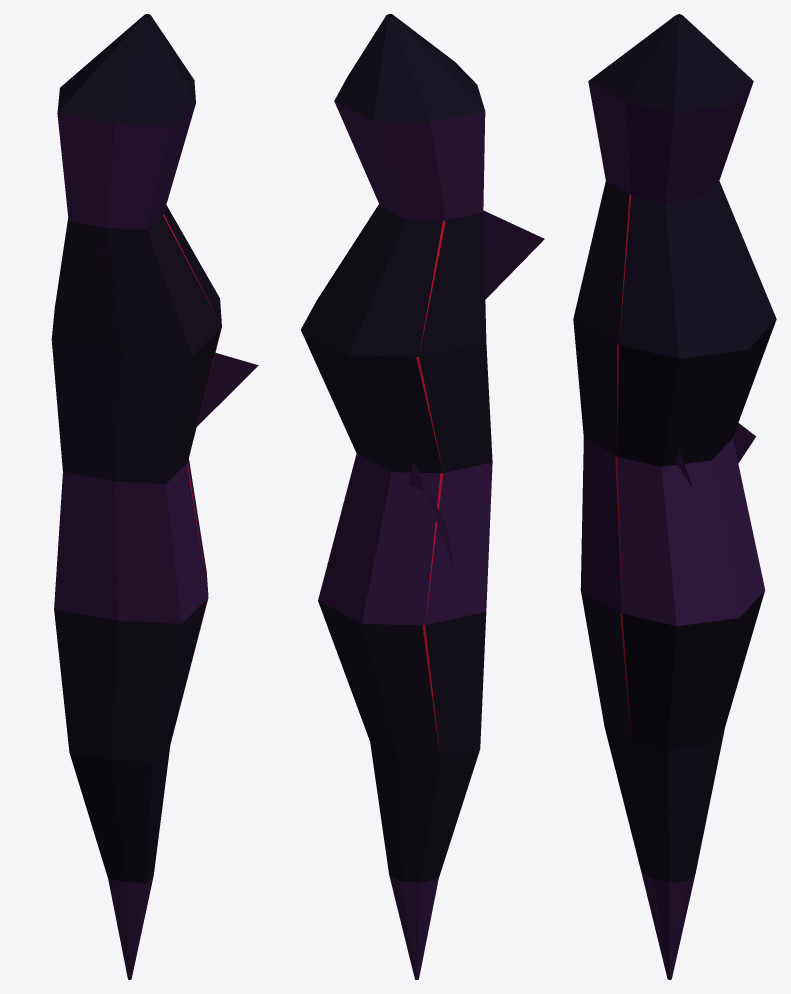
The model's file is false_king_shadow_spear.obj.
The picture shows the model from 3 angles, left to right: view 1: azimuth 30°, elevation 25°; view 2: azimuth 150°, elevation 25°; view 3: azimuth 270°, elevation 25°; orthographic projection. The views are drawn at different scales.
Visible parts, largest first — view 1: false_king_shadow_spear; view 2: false_king_shadow_spear; view 3: false_king_shadow_spear.
Part boxes in pixels (x1=…): false_king_shadow_spear: x1=51, y1=14, x2=258, y2=979; false_king_shadow_spear: x1=301, y1=14, x2=544, y2=979; false_king_shadow_spear: x1=573, y1=14, x2=776, y2=979.
Bounding box in the file's own units: 2.08 × 9.05 × 1.71.
